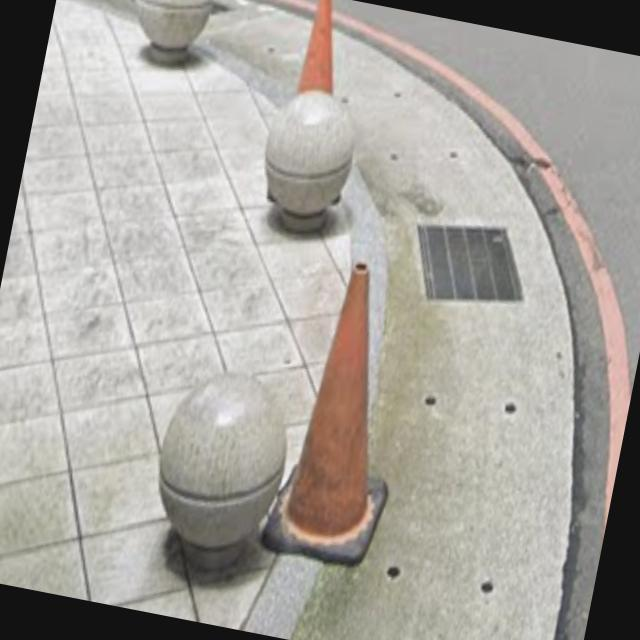cone: (272, 246, 433, 562), (297, 0, 357, 92)
